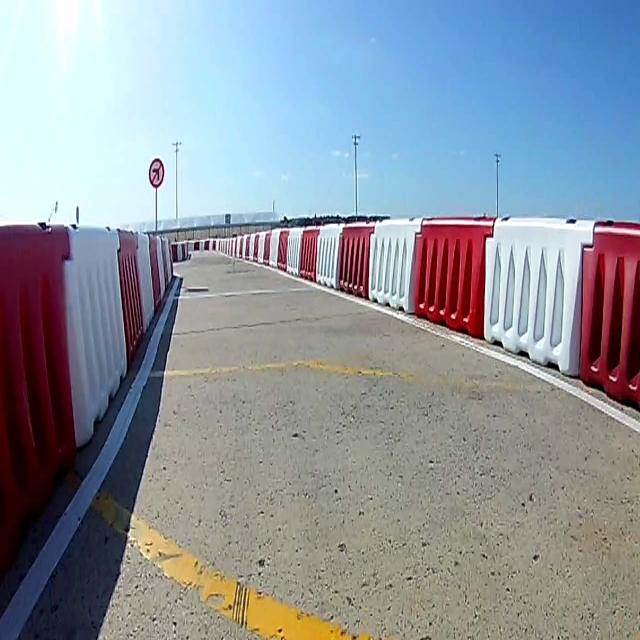soladonulmez: (148, 158, 164, 188)
